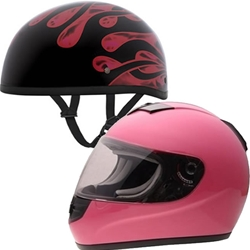with_helmet: (66, 101, 250, 249), (1, 1, 170, 102)
